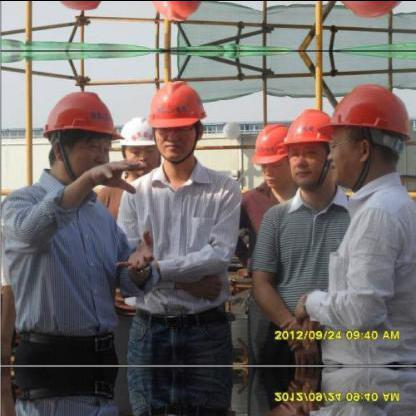Helmet: (332, 80, 404, 186), (41, 84, 115, 184), (146, 78, 209, 162), (287, 106, 339, 190), (250, 122, 296, 186), (119, 112, 154, 172), (146, 0, 211, 21)
